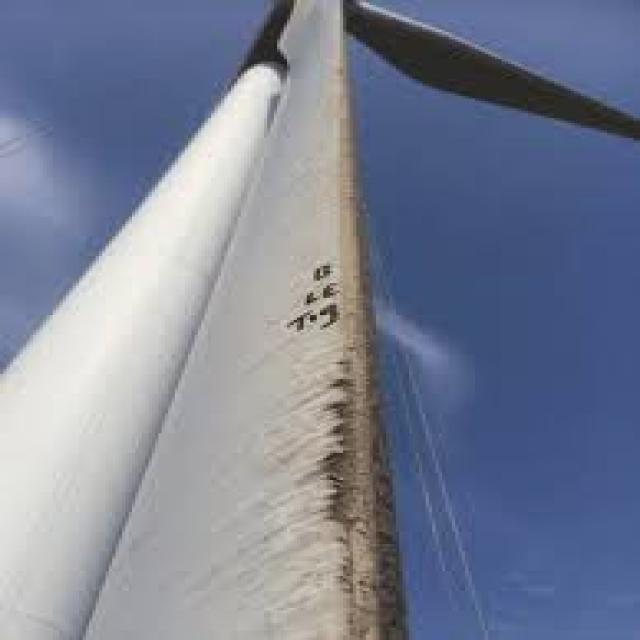Erosion: (311, 51, 416, 640)
